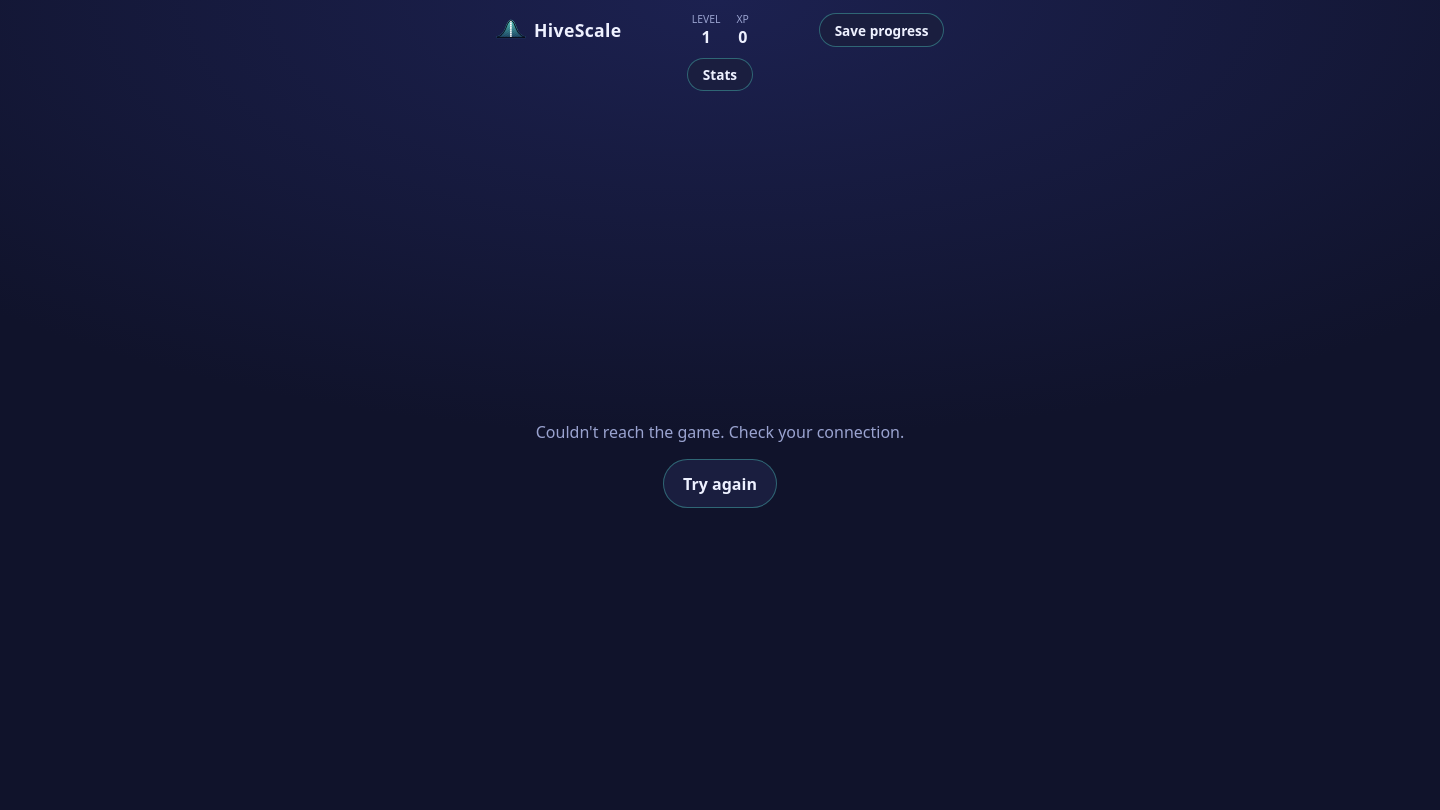
Test case: PlayScreen › surfaces an error and retries after a network failure
This screenshot has width=1440, height=810.
Expected: the text "Couldn't reach the game. Check your connection." is shown, [536,421,904,443]
Click the button "Try again". click: (720, 484)
box: [663,459,777,508]
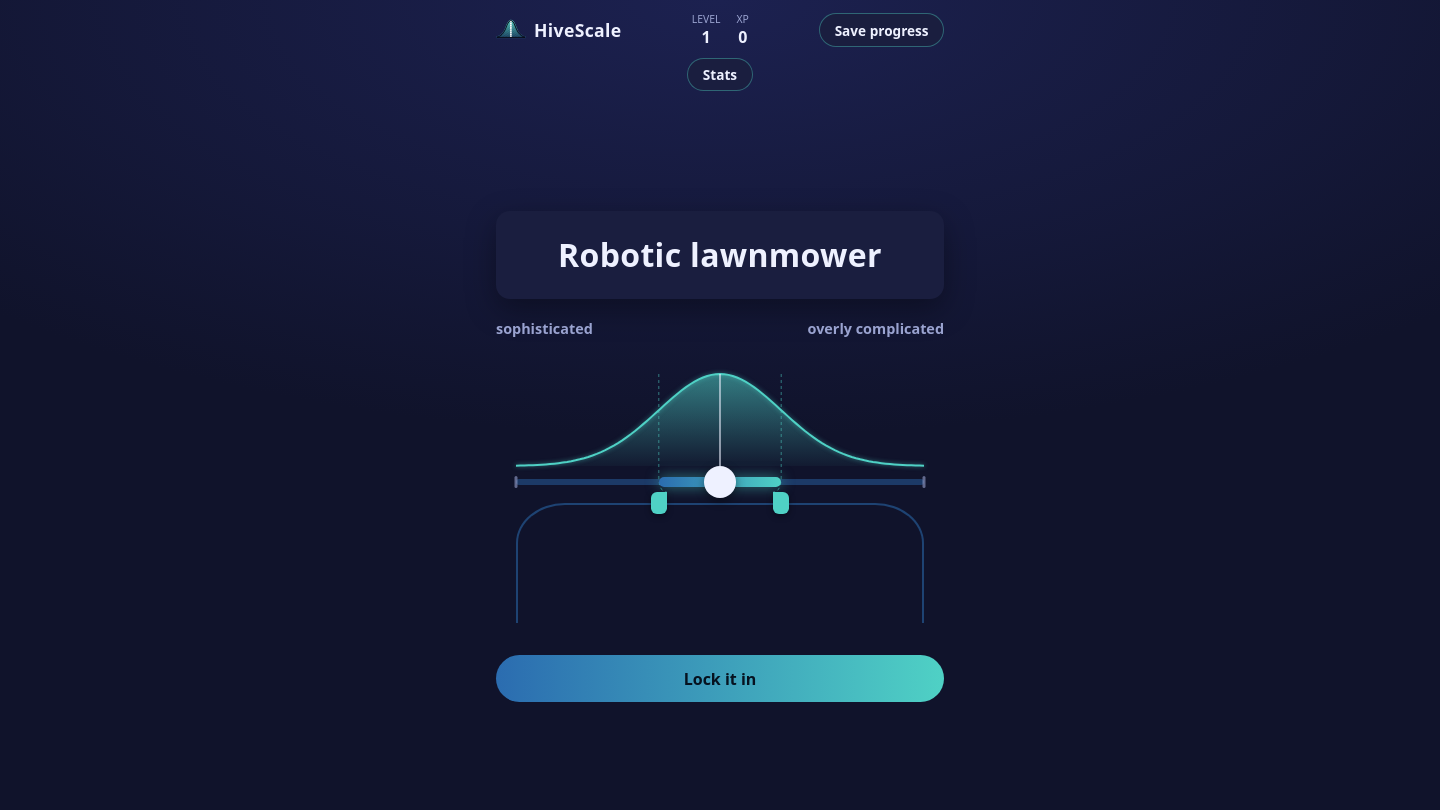
Now the heading "Robotic lawnmower" is shown, box [558,233,882,276]
